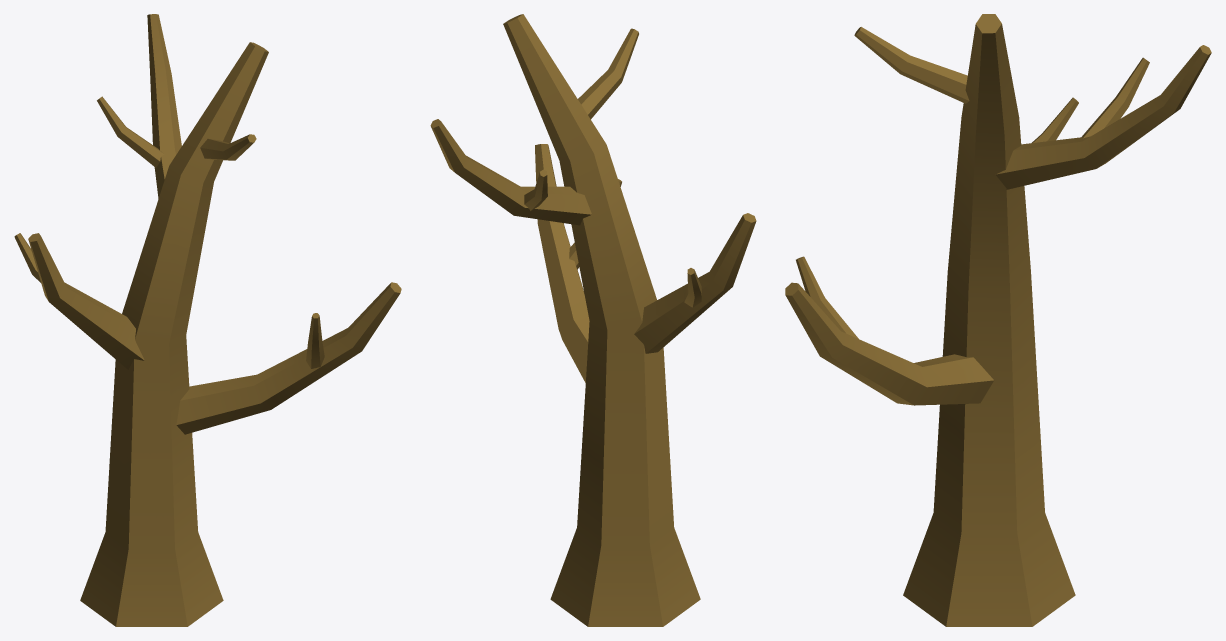
The model's file is arbol2.glb.
3 views of the same model, side by side, from view 1: azimuth 30°, elevation 25°; view 2: azimuth 150°, elevation 25°; view 3: azimuth 270°, elevation 25° (orthographic). The views are drawn at different scales.
Visible parts, largest first — view 1: tree_01_Circle; view 2: tree_01_Circle; view 3: tree_01_Circle.
Boxes of the visible parts, x1,y1,x2,y2 form: tree_01_Circle: (14,14,401,626); tree_01_Circle: (430,14,756,626); tree_01_Circle: (785,14,1211,626).
Bounding box in the file's own units: 3.72 × 6.5 × 3.92.
